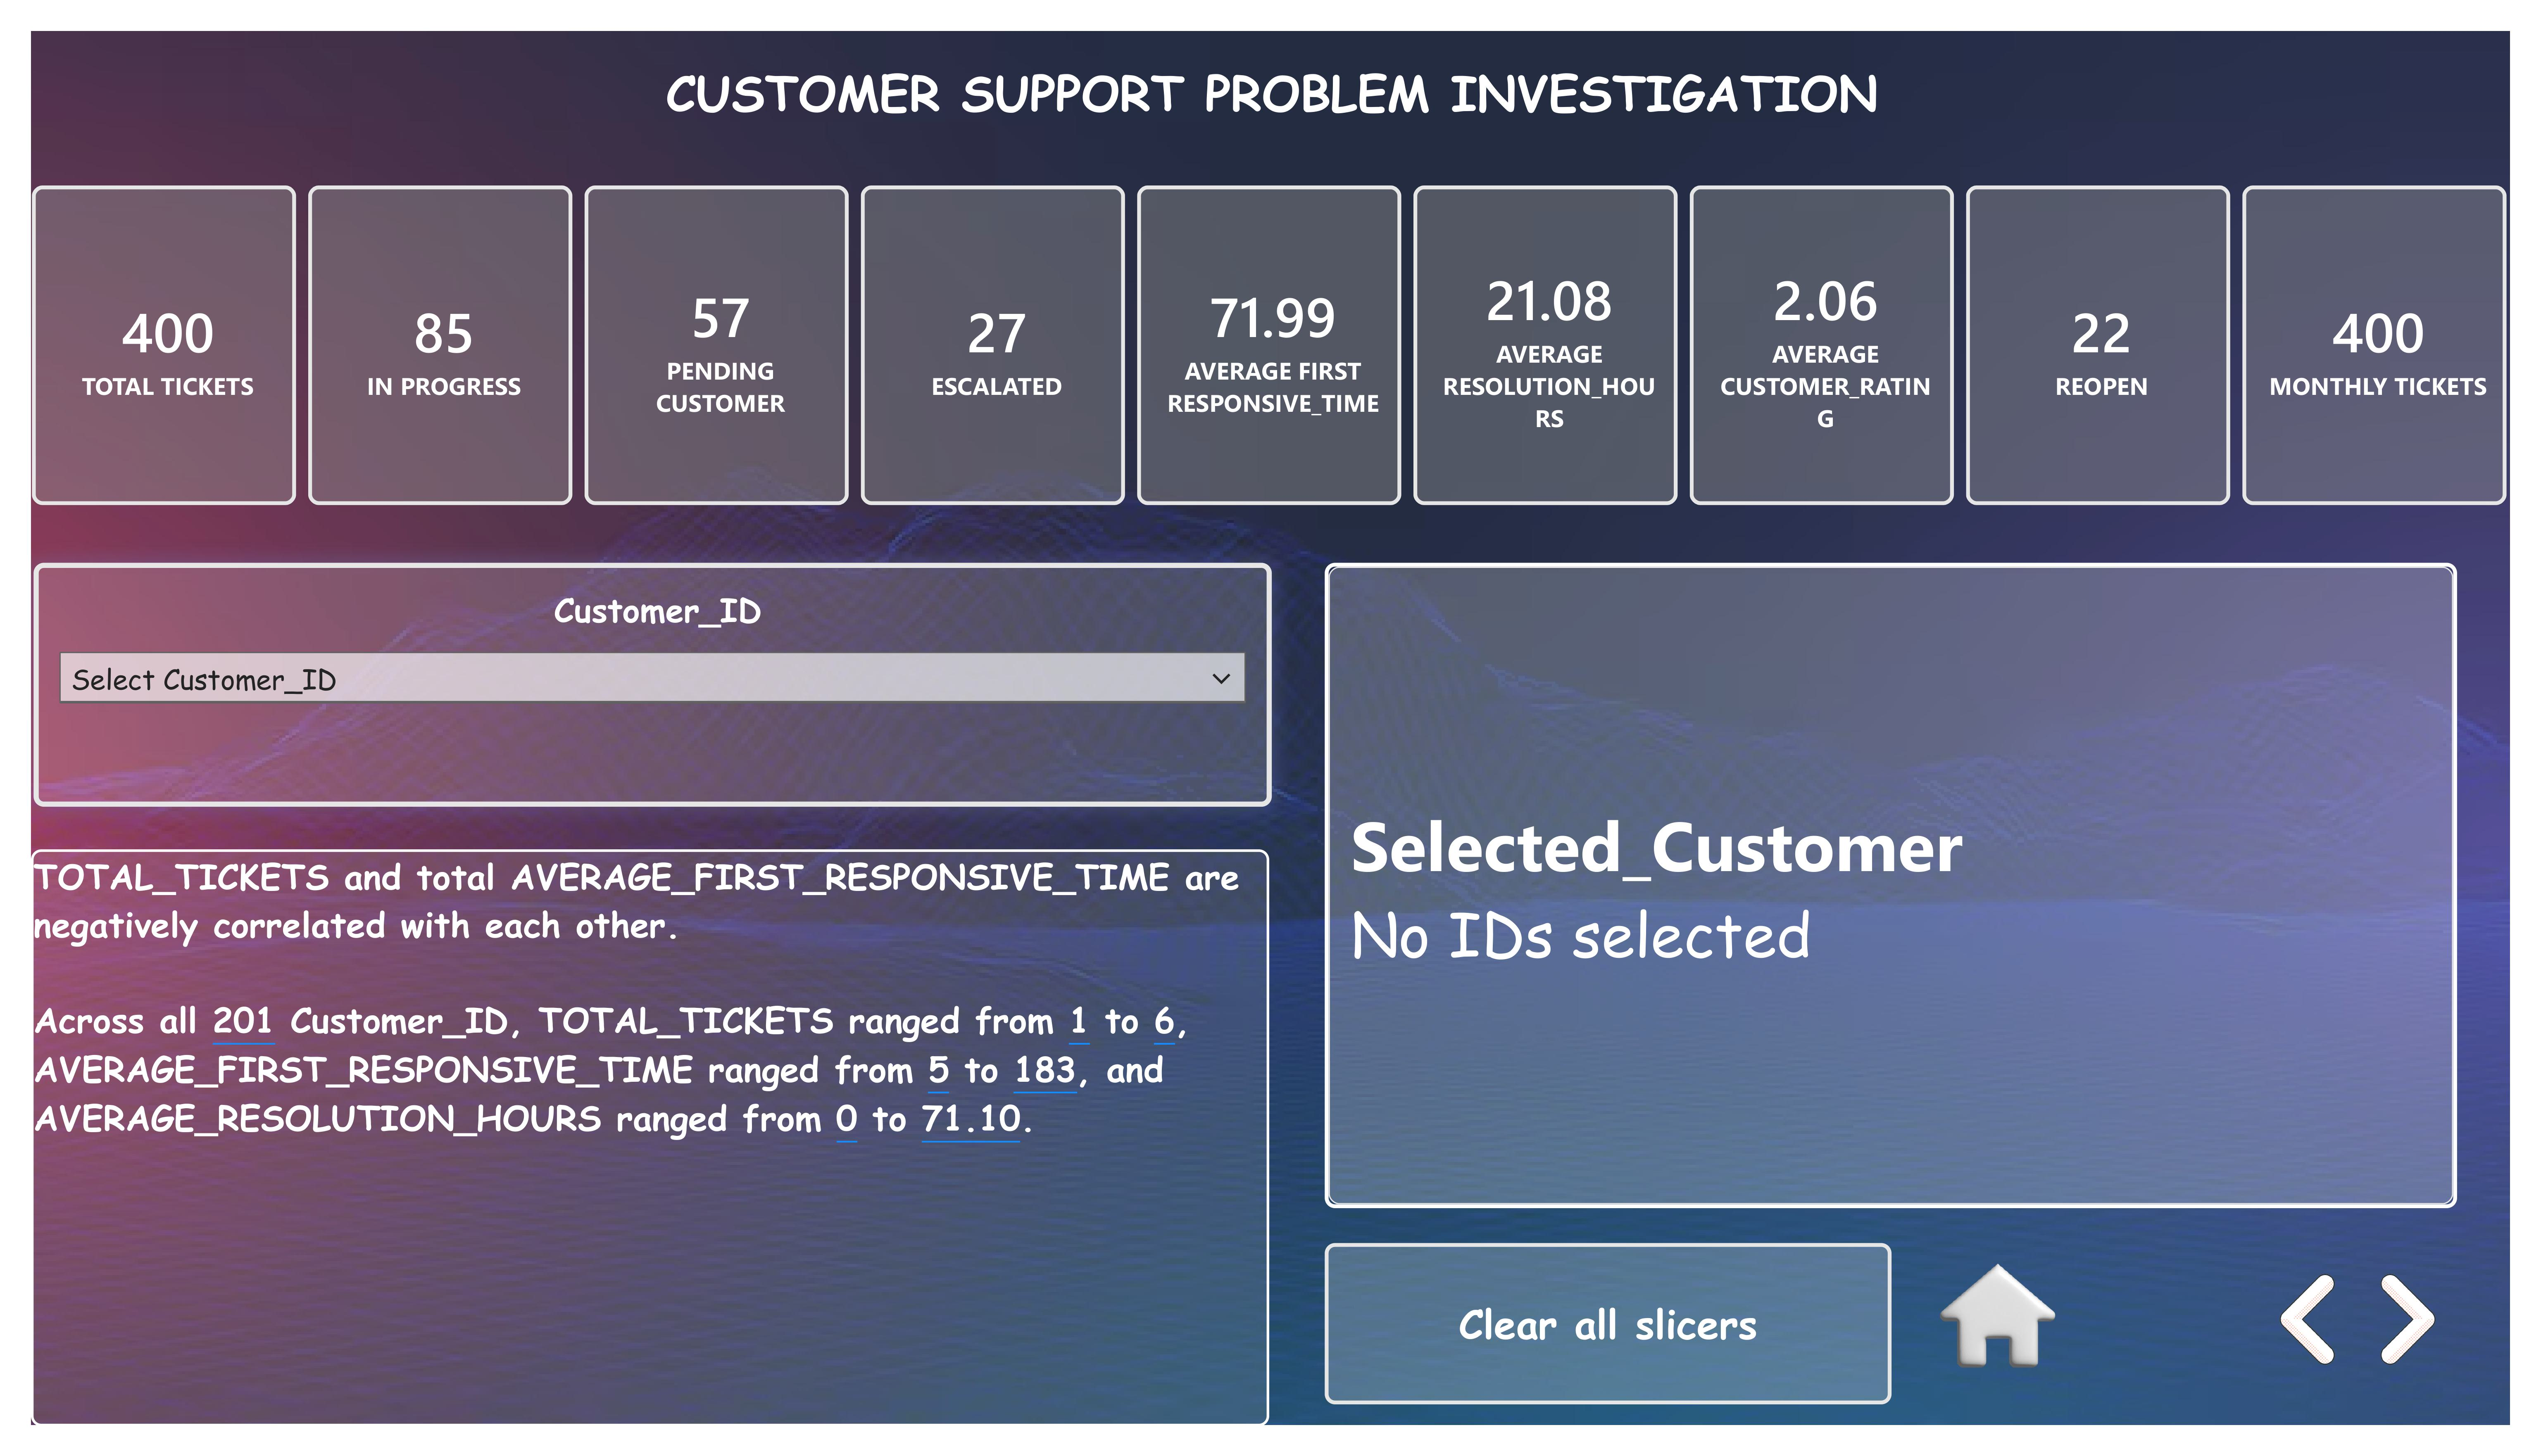

This screenshot's page, from the dashboard's own definition file:
{"tool":"powerbi","page":{"name":"Page 4","canvas":[1920,1080],"ordinal":3},"visuals":[{"type":"textbox","box":[0,634,959.2,446.7],"z":2000},{"type":"listSlicer","fields":{"Values":["Customer_Support_Tickets.Customer_ID"]},"box":[2.1,411.7,959.2,189.4],"z":6000},{"type":"cardVisual","fields":{"Data":["_MEASURE.TOTAL_TICKETS","_MEASURE.IN_PROGRESS","_MEASURE.PENDING_CUSTOMER","_MEASURE.ESCALATED","_MEASURE.AVERAGE_RESOLUTION","_MEASURE.AVERAGE_RESOLUTION_HOURS","_MEASURE.AVERAGE_CUSTOMER_RATING","_MEASURE.RESPONSED","_MEASURE.MONTHLY_TICKETS"]},"box":[0,119.4,1920.4,249.1],"z":6001},{"type":"textbox","box":[2.1,20.6,1918.4,98.8],"z":6002},{"type":"cardVisual","fields":{"Data":["NEW_MEASURE.Selected_Customer"]},"box":[1002.4,411.7,876.8,500.2],"z":6003},{"type":"group","id":"g1","title":"Group 2","box":[1471.7,938.6,407.5,111.1],"z":6004},{"type":"actionButton","box":[1002.4,938.6,438.4,125.6],"z":6005},{"type":"image","box":[1471.7,938.6,102.5,111.1],"z":10000,"group":"g1"},{"type":"image","box":[1801.7,945.9,77.6,103.8],"z":11000,"group":"g1"},{"type":"image","box":[1724.1,945.9,77.6,103.8],"z":13000,"group":"g1"}]}

Visuals, with their boxes on the page's 1920x1080 design canvas (x1, y1, x2, y2). These are canvas units, not pixel positions in the 2541x1456 screenshot, which may show the page scaled, cropped or inside an application window:
textbox: x1=0 y1=634 x2=959 y2=1081
listSlicer - Customer_Support_Tickets.Customer_ID: x1=2 y1=412 x2=961 y2=601
cardVisual - _MEASURE.TOTAL_TICKETS x _MEASURE.IN_PROGRESS: x1=0 y1=119 x2=1920 y2=368
textbox: x1=2 y1=21 x2=1920 y2=119
cardVisual - NEW_MEASURE.Selected_Customer: x1=1002 y1=412 x2=1879 y2=912
"Group 2" group: x1=1472 y1=939 x2=1879 y2=1050
actionButton: x1=1002 y1=939 x2=1441 y2=1064
image: x1=1472 y1=939 x2=1574 y2=1050
image: x1=1802 y1=946 x2=1879 y2=1050
image: x1=1724 y1=946 x2=1802 y2=1050
